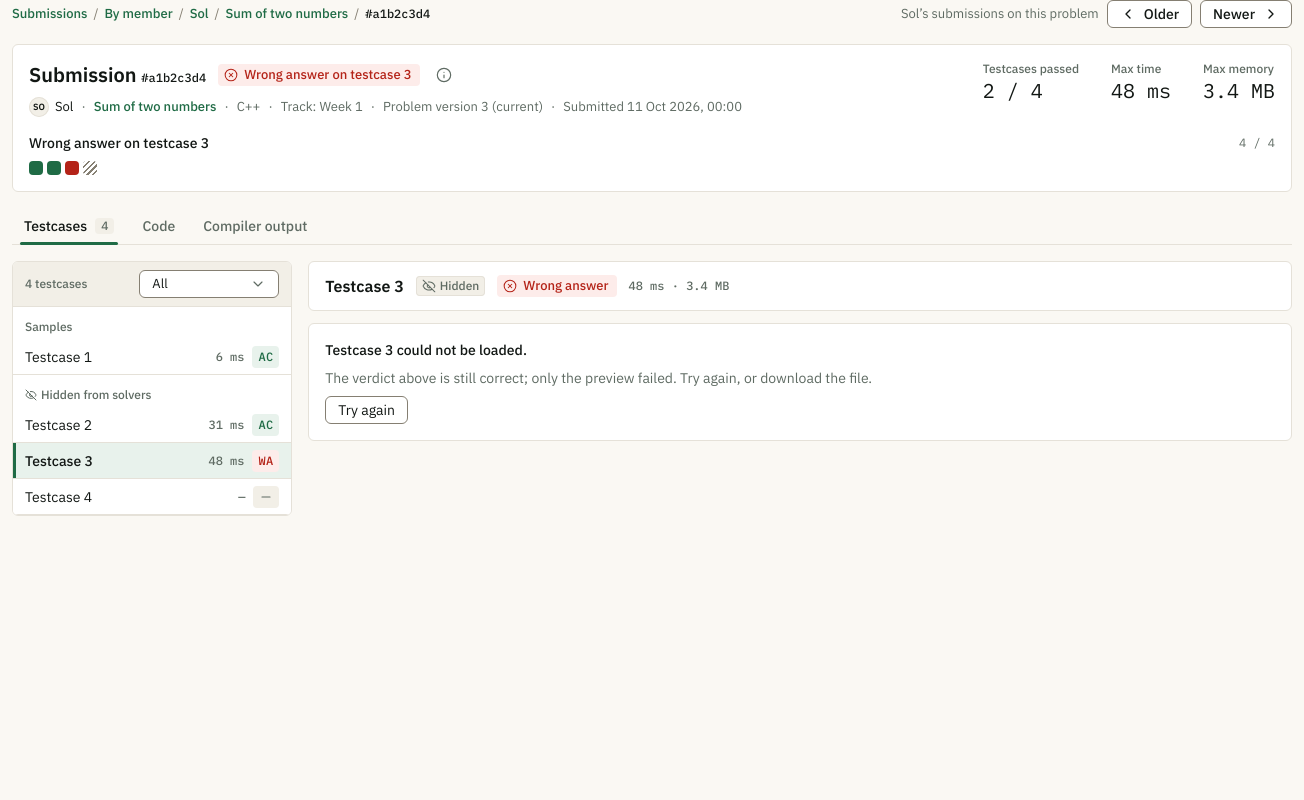
Test: submission detail for staff › says when a testcase file could not be loaded and tries again
expect the text "Testcase 3 could not be loaded." is shown: met, box [325, 341, 527, 359]
expect the text "The verdict above is still correct" is shown: met, box [325, 369, 872, 387]
Click the button "Try again": (367, 410) [325, 396, 408, 424]
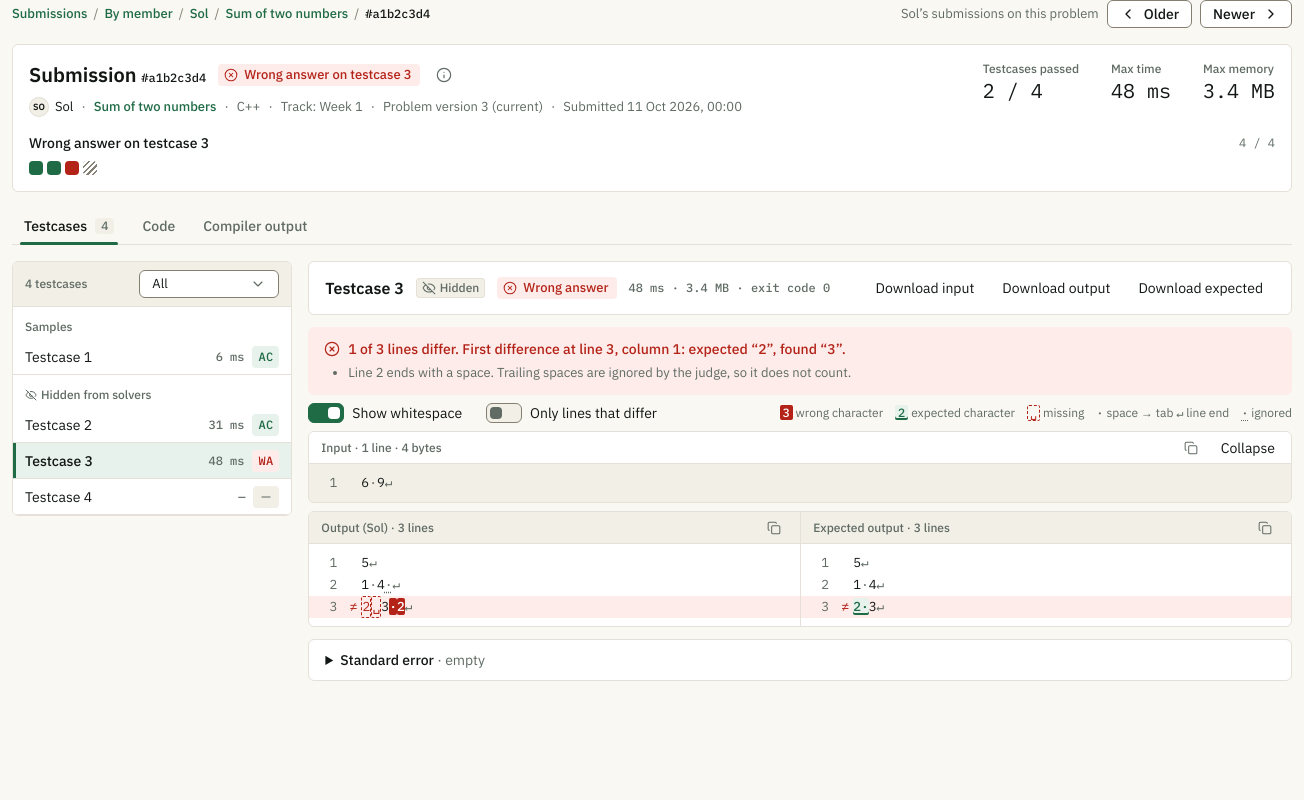
expect the text "lines differ" is shown: met, box [348, 340, 846, 358]
